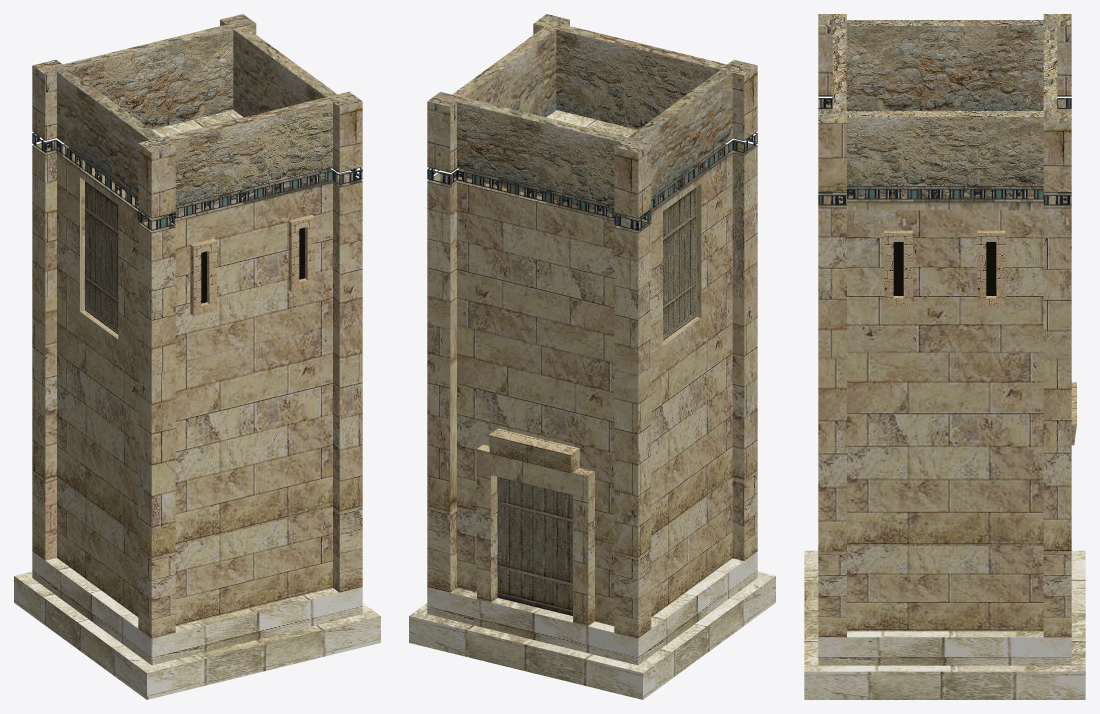
The model's file is kart_wall_tower_r.dae.
3 views of the same model, side by side, from view 1: azimuth 30°, elevation 25°; view 2: azimuth 150°, elevation 25°; view 3: azimuth 270°, elevation 25° (orthographic). The views are drawn at different scales.
Visible parts, largest first — view 1: objBox07; view 2: objBox07; view 3: objBox07.
Part boxes in pixels (box(x1,y1,x2,y2)): objBox07: box(14, 14, 380, 699); objBox07: box(409, 14, 775, 699); objBox07: box(804, 14, 1085, 699).
Size of the model in its own units: 7.89 by 7.76 by 17.39.
